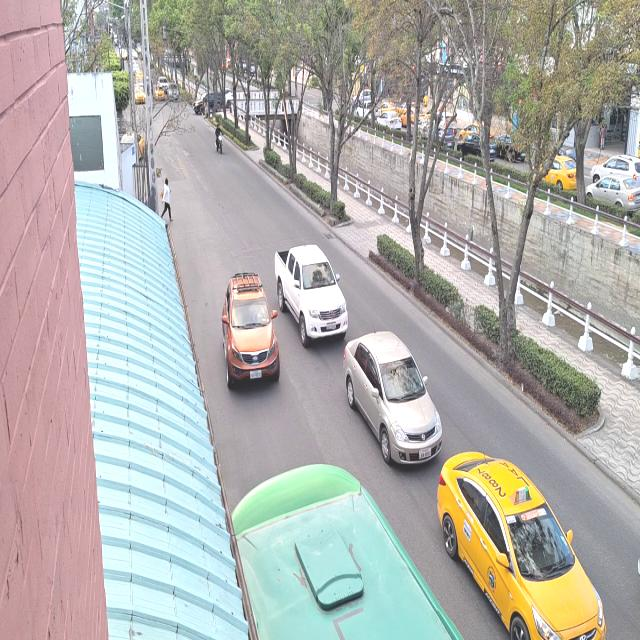CMT: (279, 247, 350, 343)
MOTORCYCLE: (215, 130, 223, 155)
SED: (443, 453, 611, 640), (342, 329, 440, 465)
SUV: (222, 274, 278, 388)
